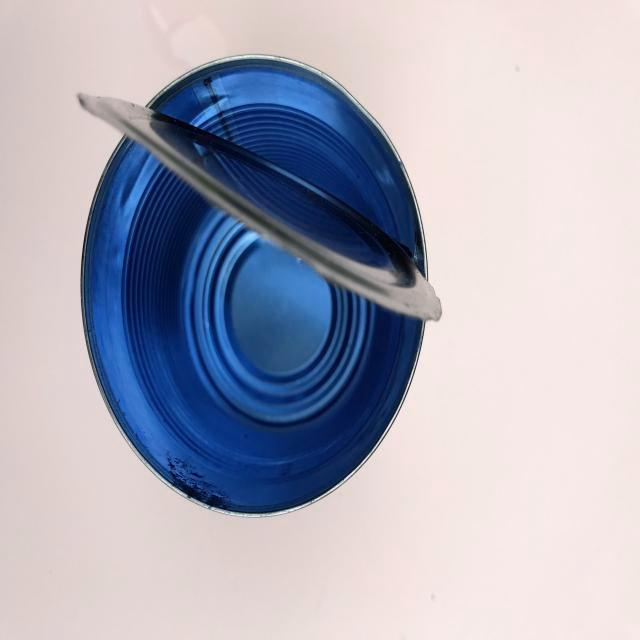metal: (69, 44, 447, 530)
